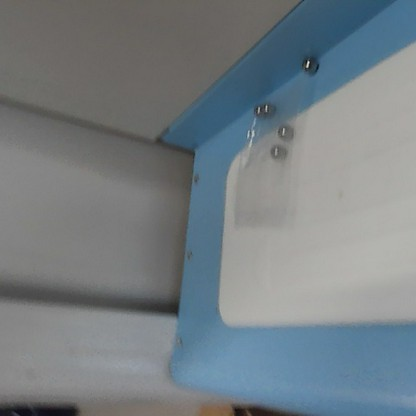ironball: (299, 53, 321, 75), (267, 142, 285, 161), (275, 121, 292, 140), (259, 98, 274, 115), (250, 104, 263, 120)
